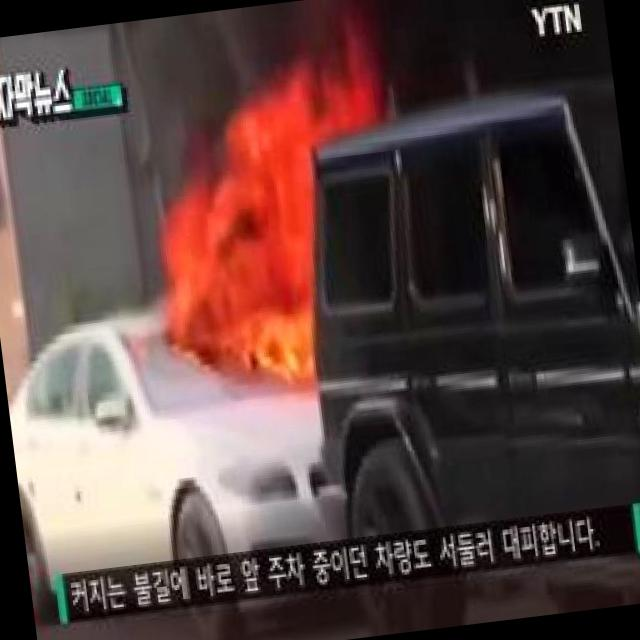Fire: (157, 83, 344, 389)
